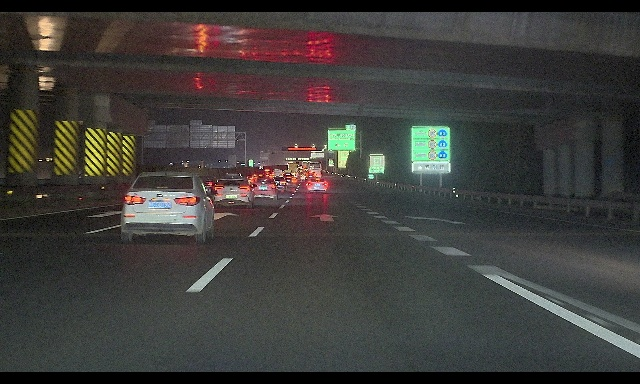bus: (305, 162, 322, 179)
car: (121, 171, 218, 243), (213, 176, 257, 208), (188, 175, 219, 203), (249, 176, 280, 200), (307, 177, 328, 192), (270, 175, 288, 190), (305, 172, 317, 183), (282, 174, 293, 183), (300, 172, 309, 180)
truck: (287, 162, 299, 177)
